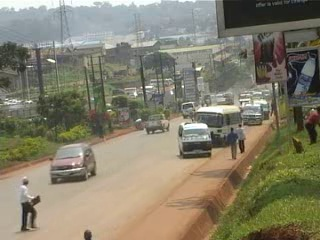Car: (46, 141, 97, 183)
